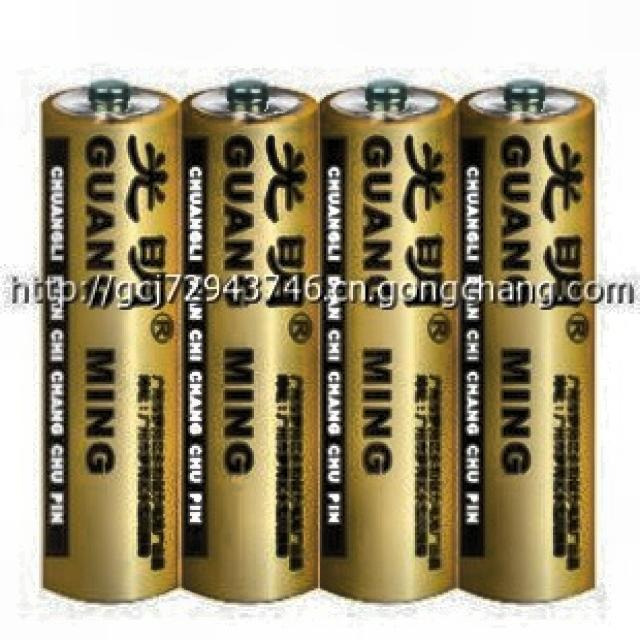Non-Valuable Waste - Batteries: (321, 80, 459, 601), (183, 80, 320, 601), (43, 80, 179, 601), (460, 80, 594, 599)
